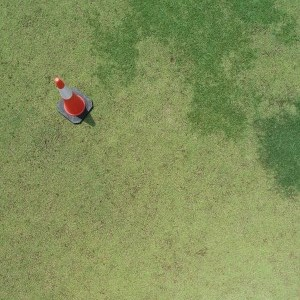traffic cone: (54, 77, 94, 125)
